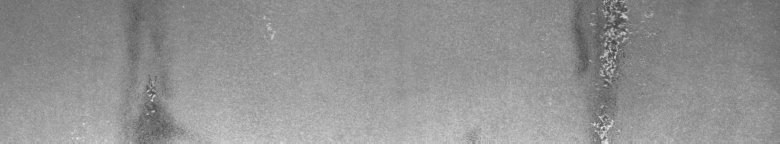hc: (569, 4, 657, 136)
